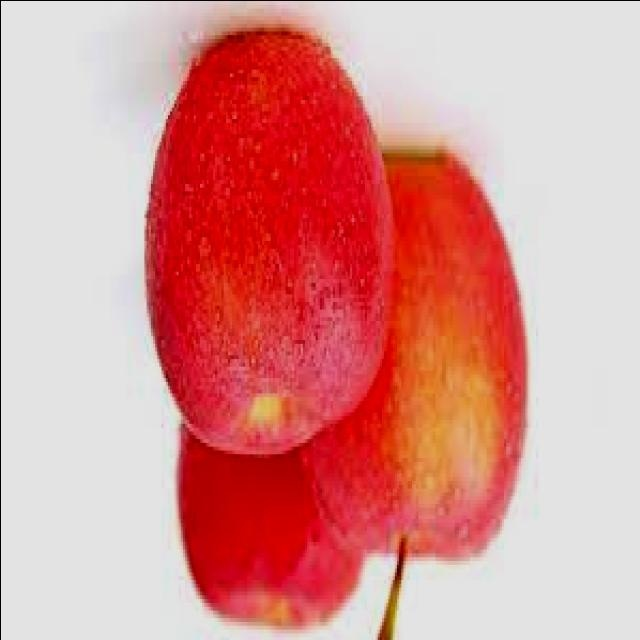agrume: (121, 0, 417, 520), (304, 64, 545, 605), (107, 270, 428, 640)
